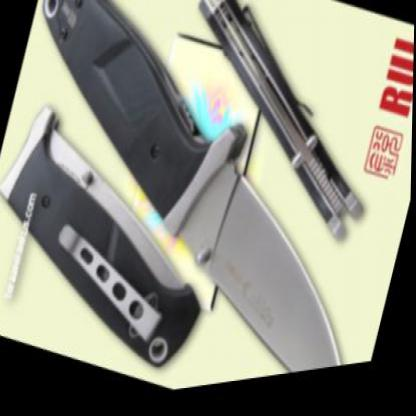knife: (146, 130, 405, 396)
